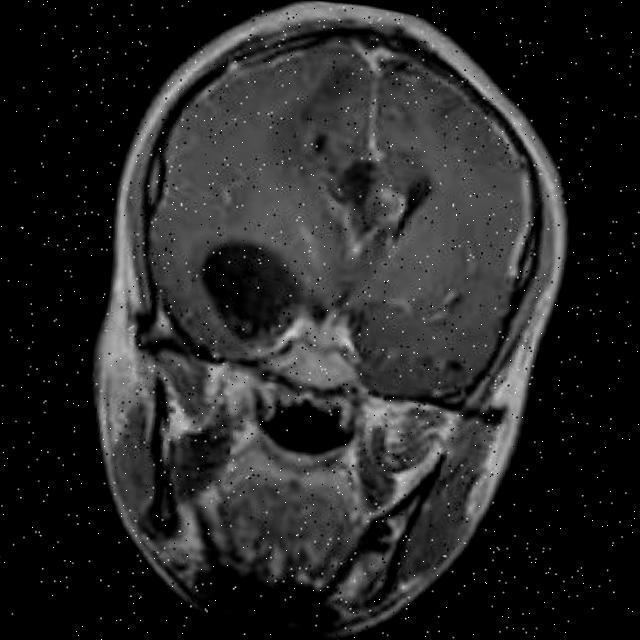CN: (170, 213, 331, 364)
